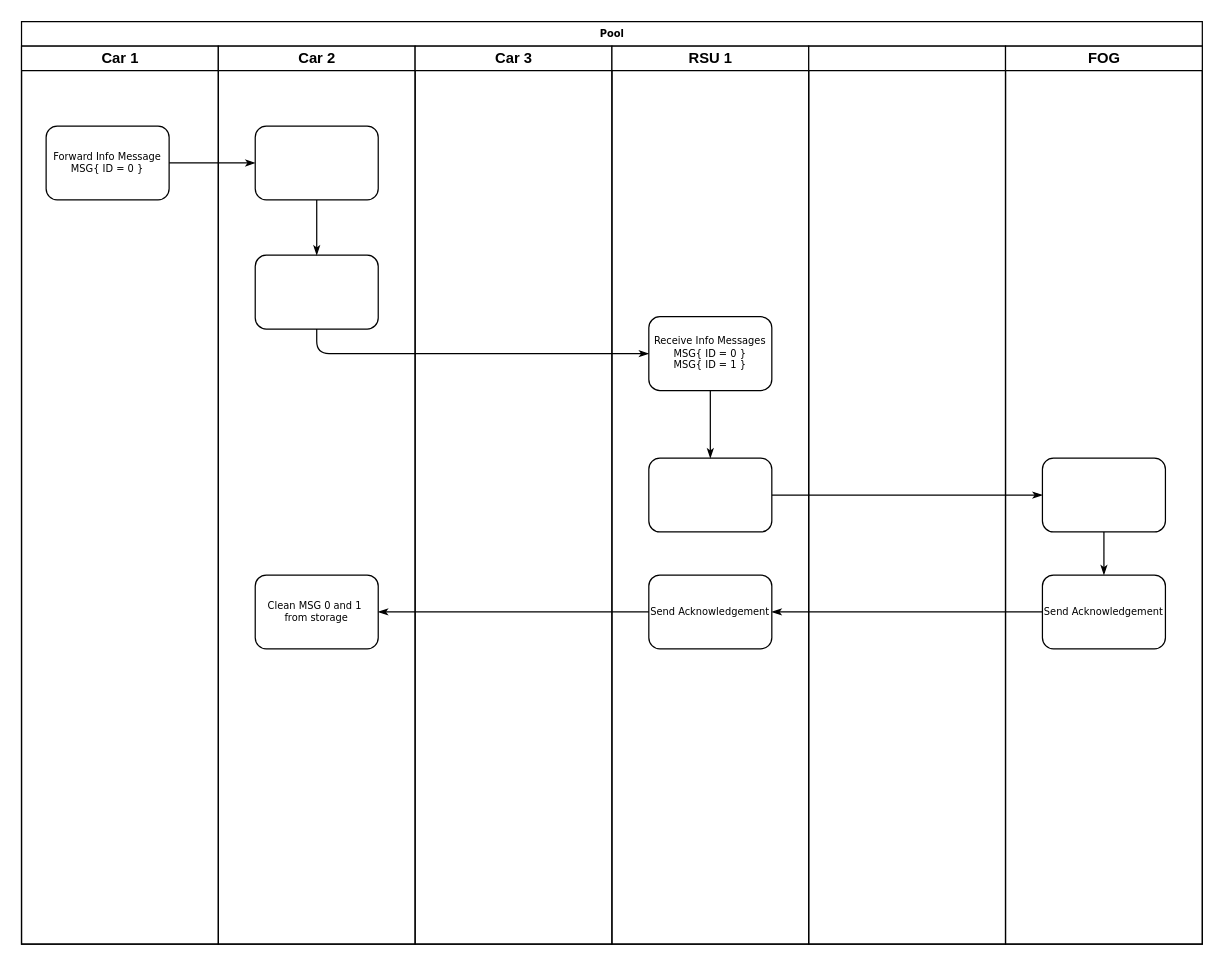
This 1224x966 diagram has some shape labels left out. The shapes that lost their labels are listed below. From the top down, each one's centre as x and y in pixels, then its label:
(316,162): Store MSG{ ID = 0 }
(316,291): Forward Info Messages MSG{ ID = 0 } MSG{ ID = 1 }
(710,494): Send info Messages to FOG
(906,494): RSU 2
(1103,494): Save Info Messages MSG{ ID = 0 } MSG{ ID = 1 }
